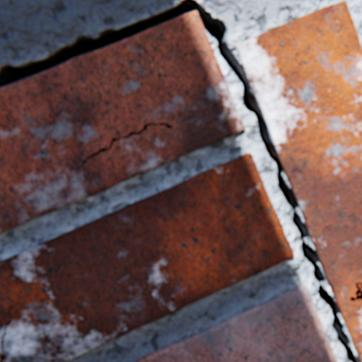brick: (0, 153, 294, 361), (0, 12, 245, 233), (236, 2, 361, 361), (134, 284, 337, 361)
crack: (0, 0, 359, 361), (83, 124, 172, 164), (1, 305, 13, 361), (350, 282, 361, 300)
